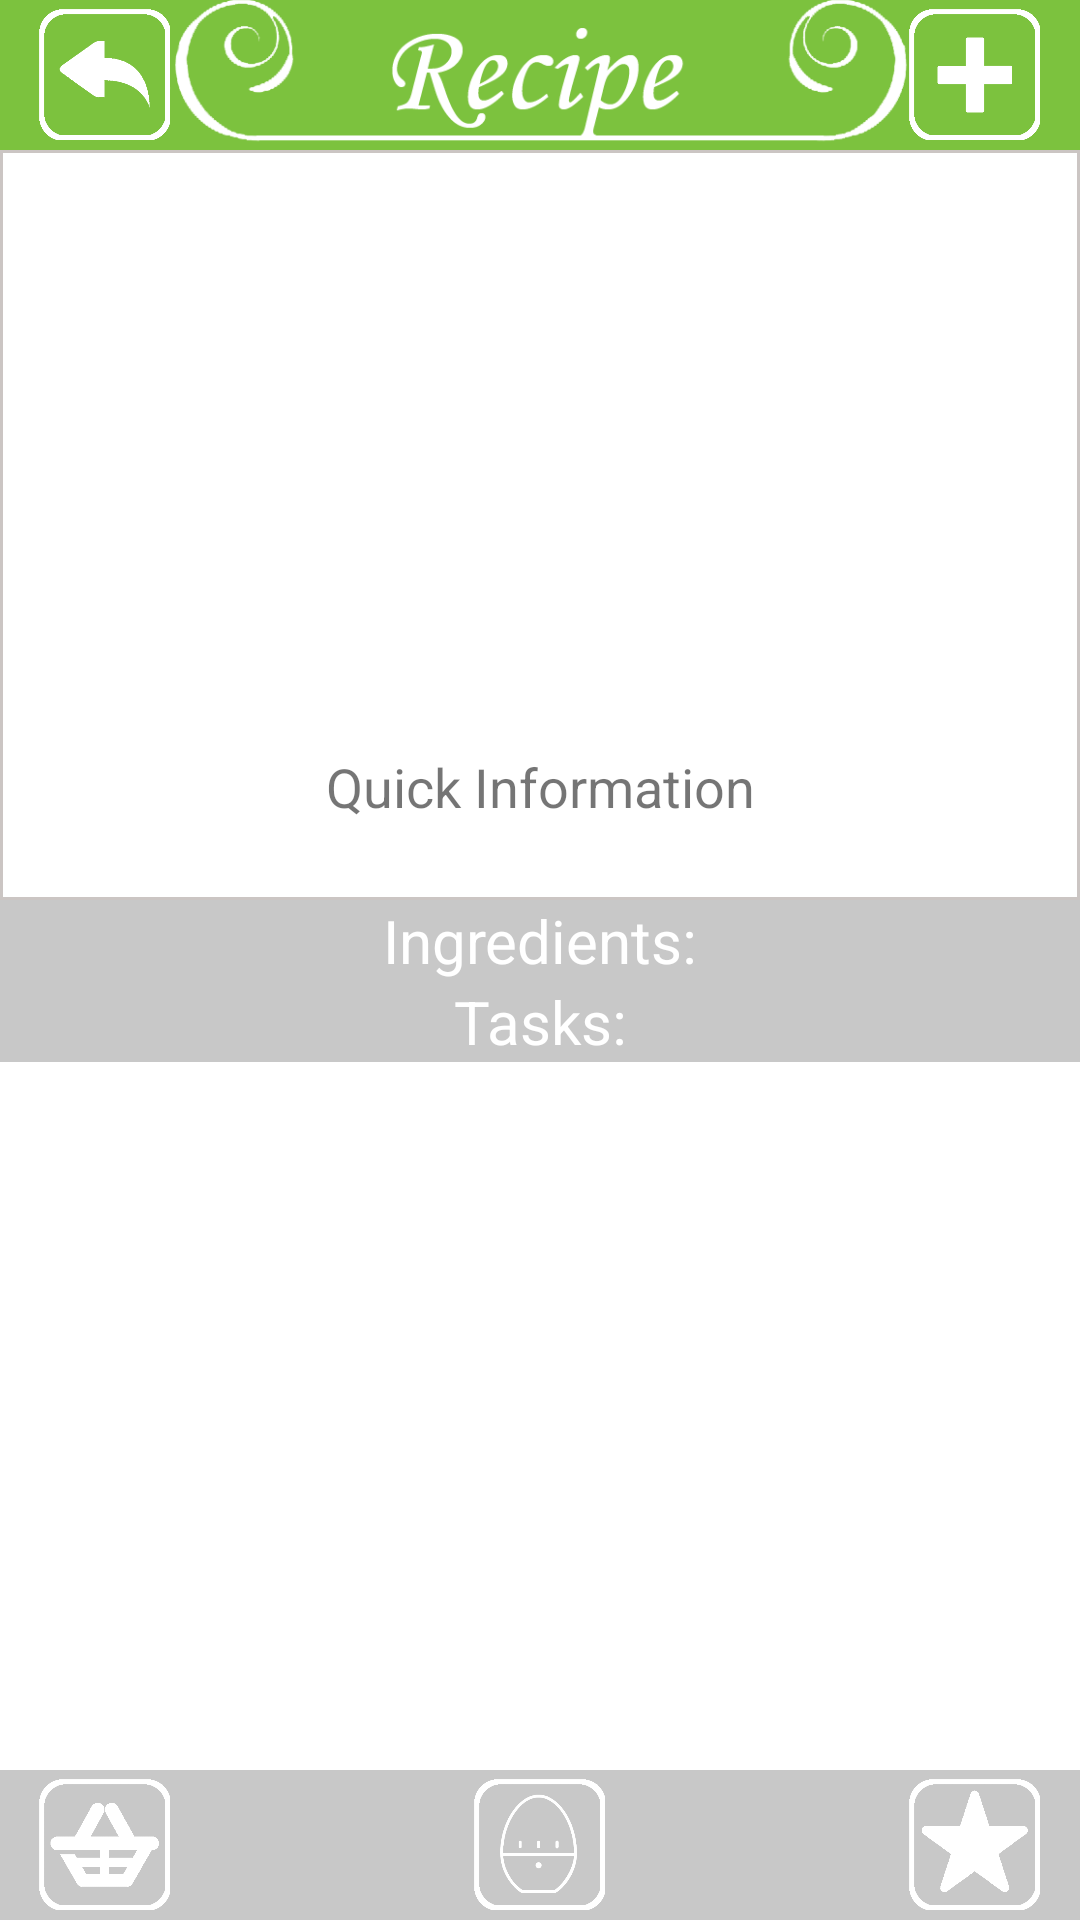

Screen size 1080*1920. Icon name, then its center in pixels as (x,y):
addbutton: (974,74)
backbutton: (104,74)
basketbutton: (104,1844)
starbutton: (974,1844)
timer: (539,1844)
